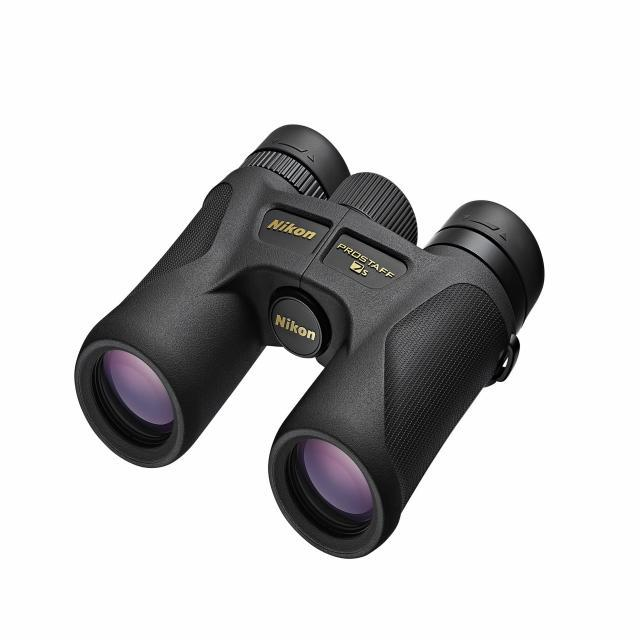Binocular: (63, 110, 555, 566)
